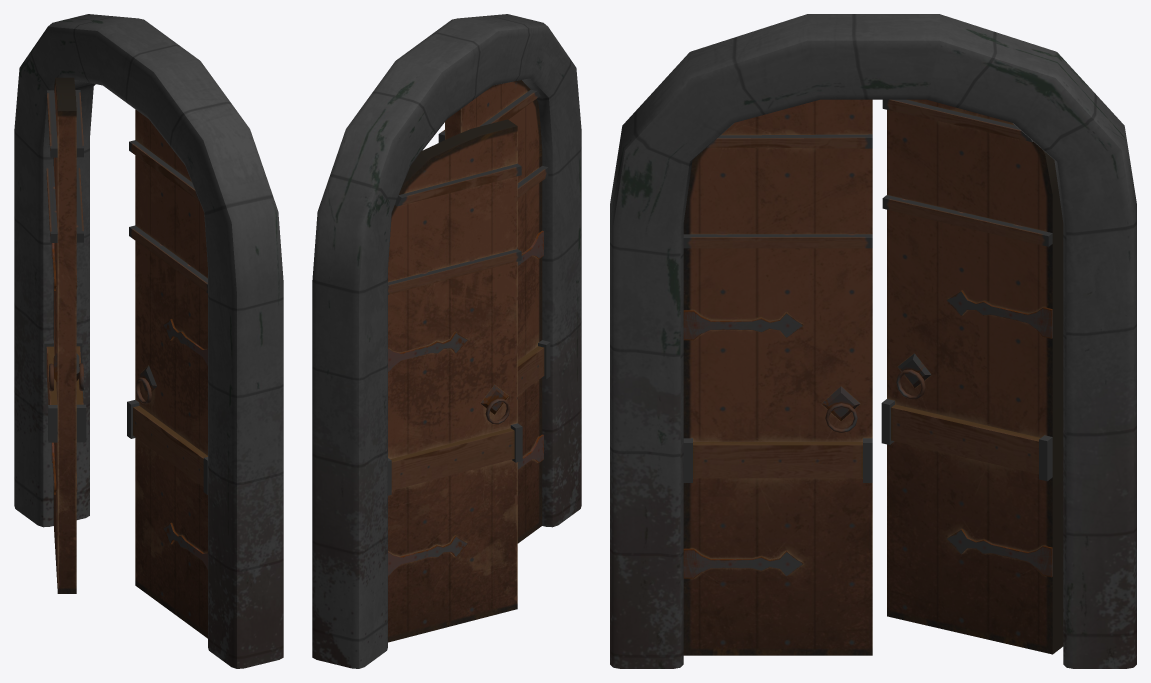
3 renders of one model, left to right at view 1: azimuth 30°, elevation 25°; view 2: azimuth 150°, elevation 25°; view 3: azimuth 270°, elevation 25°, orthographic. The views are drawn at different scales.
Parts seen in each view (by area): view 1: marcopuerta, puerta2, puerta1; view 2: marcopuerta, puerta1, puerta2; view 3: marcopuerta, puerta2, puerta1.
Boxes of the visible parts, <box> form: marcopuerta: <box>14,14,283,668</box>; puerta2: <box>127,109,207,638</box>; puerta1: <box>44,77,86,593</box>; marcopuerta: <box>312,14,581,668</box>; puerta1: <box>388,119,522,642</box>; puerta2: <box>438,80,550,543</box>; marcopuerta: <box>610,14,1136,668</box>; puerta2: <box>683,99,872,655</box>; puerta1: <box>881,99,1063,654</box>.
Size of the model in its own units: 1.36 by 6.13 by 4.65.
Materials: 1 (1 with a texture image).
